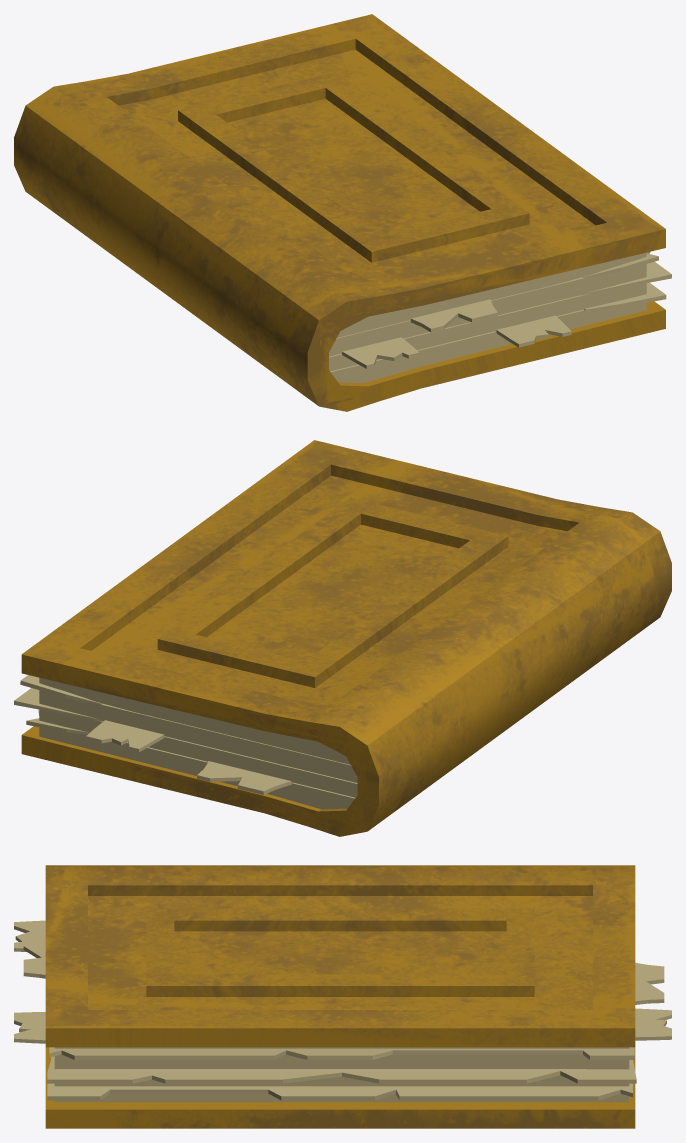
Rendered from book_yellow_2.fbx.
The picture shows the model from 3 angles, top to bottom: view 1: azimuth 30°, elevation 25°; view 2: azimuth 150°, elevation 25°; view 3: azimuth 270°, elevation 25°; orthographic projection.
Parts seen in each view (by area): view 1: Cube.032; view 2: Cube.032; view 3: Cube.032.
Part boxes in pixels (<box>): Cube.032: <box>14,14,671,411</box>; Cube.032: <box>14,440,671,836</box>; Cube.032: <box>14,865,671,1128</box>.
Bounding box in the file's own units: 220 × 63.43 × 341.
